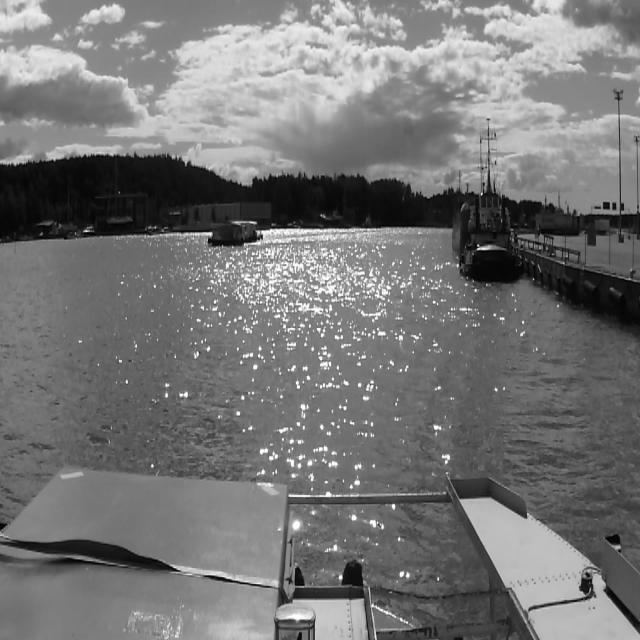ship: (462, 119, 524, 281), (204, 221, 249, 247)
